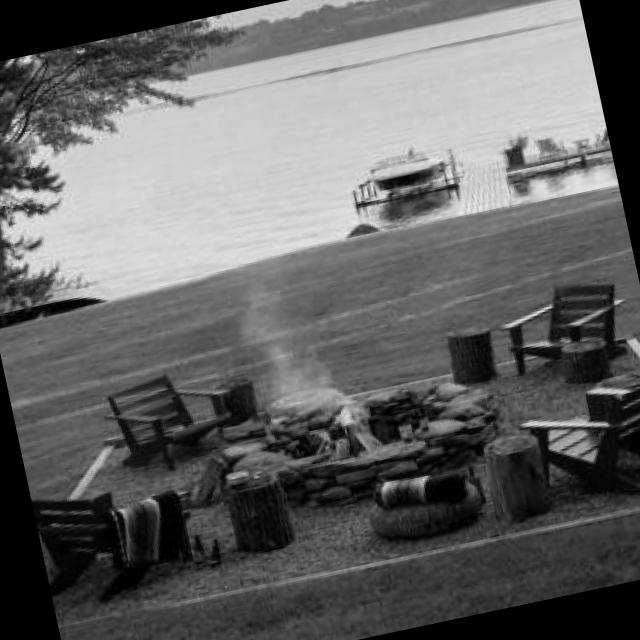fire: (304, 402, 366, 456)
smoke: (239, 287, 327, 411)
